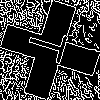T: (25, 25, 78, 67)
